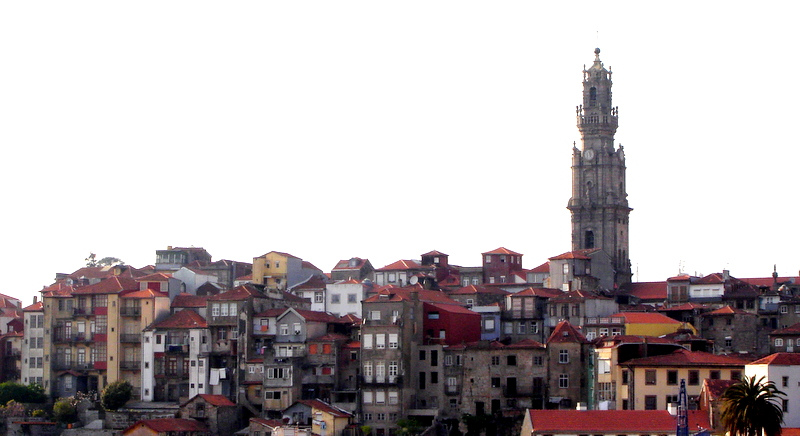clerigos: (563, 46, 637, 295)
